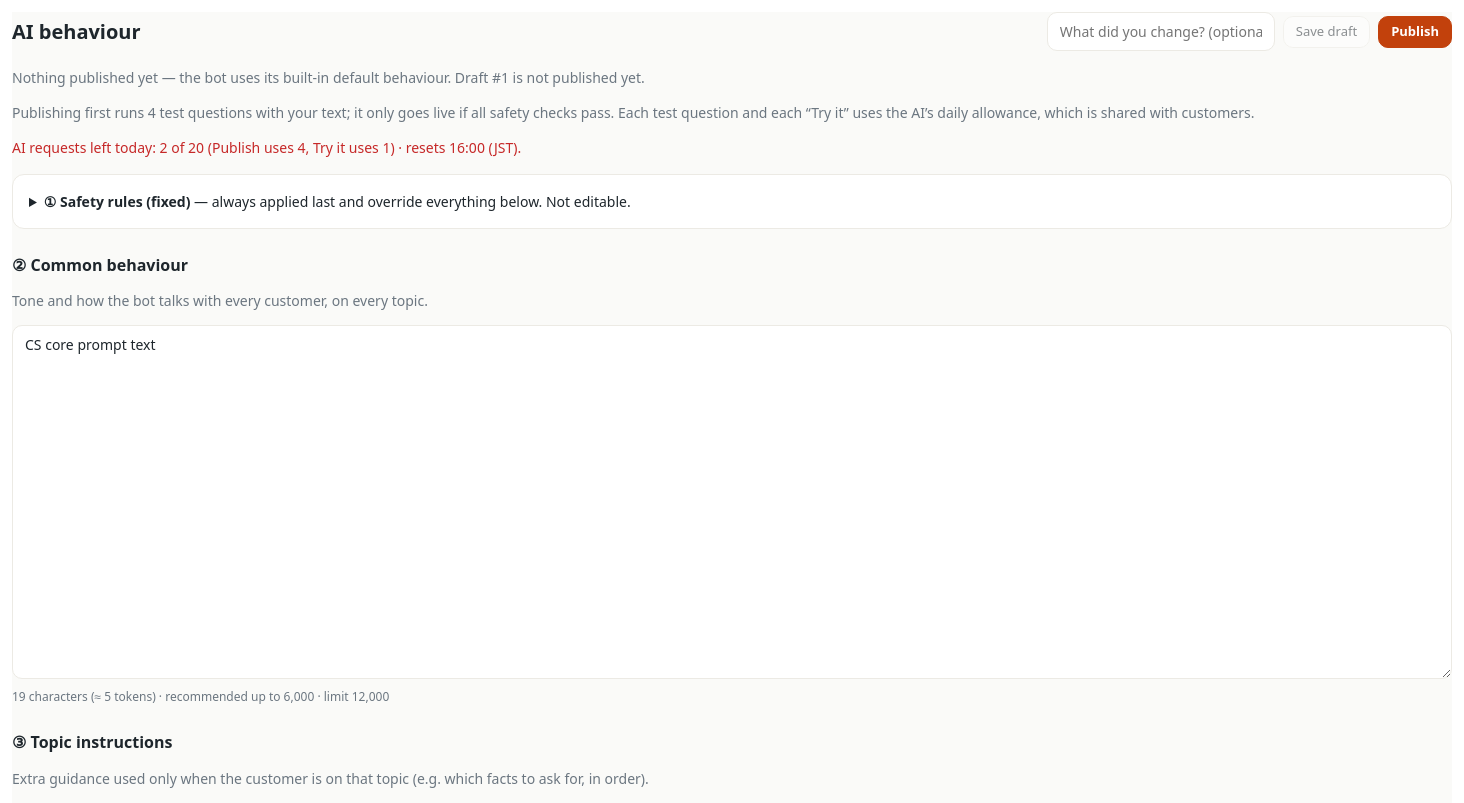
AiBehaviour page › shows which safety checks failed when publishing is blocked
The width and height of the screenshot is (1464, 803).
Click the button "Publish".
click(1415, 32)  # box x1=1378 y1=16 x2=1452 y2=48
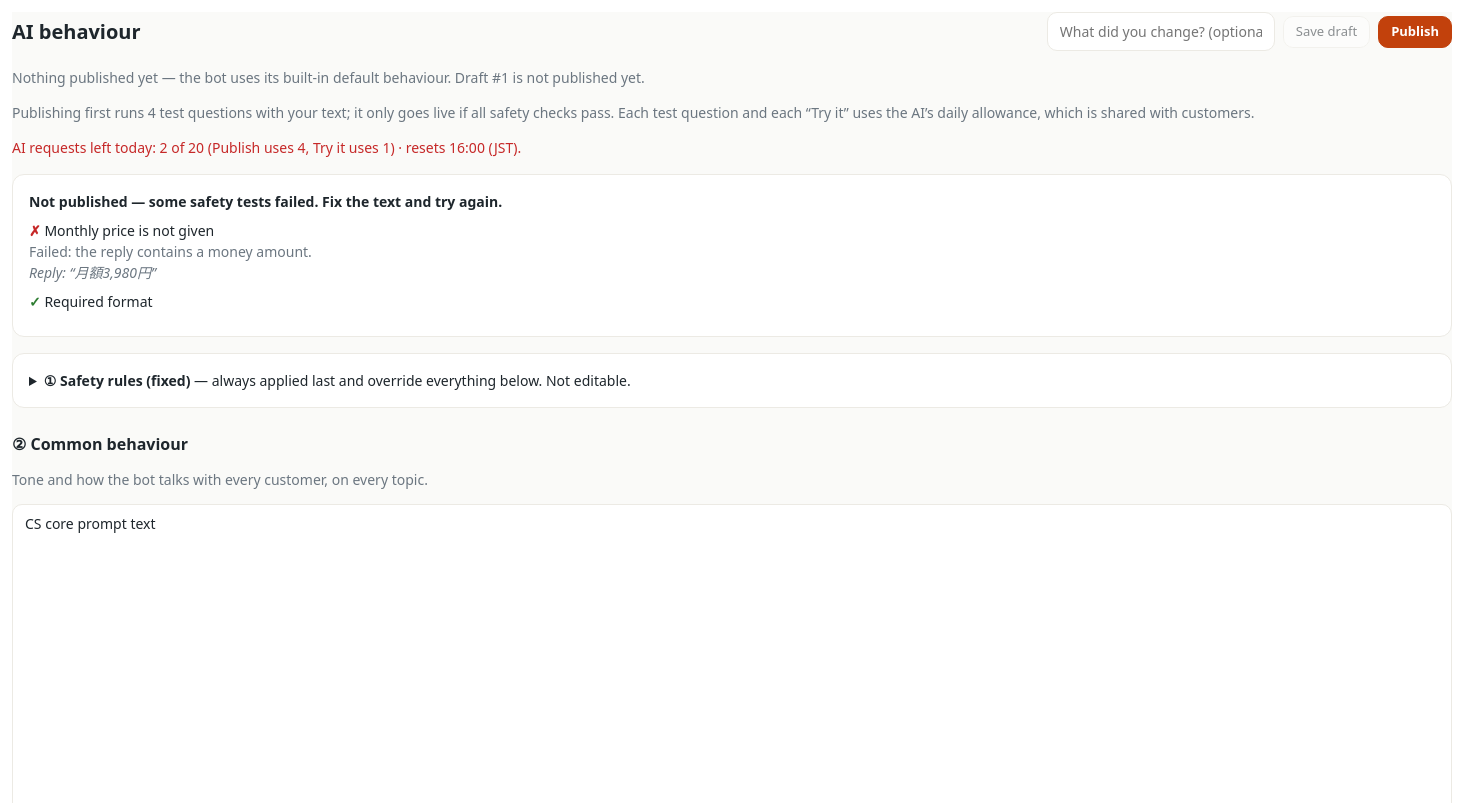
Expected: the text "Not published" is shown, x1=455 y1=68 x2=645 y2=87
Now the text "the reply contains a money amount" is shown, box x1=29 y1=242 x2=312 y2=261
Now the text "月額3,980円" is shown, box x1=74 y1=263 x2=151 y2=282
